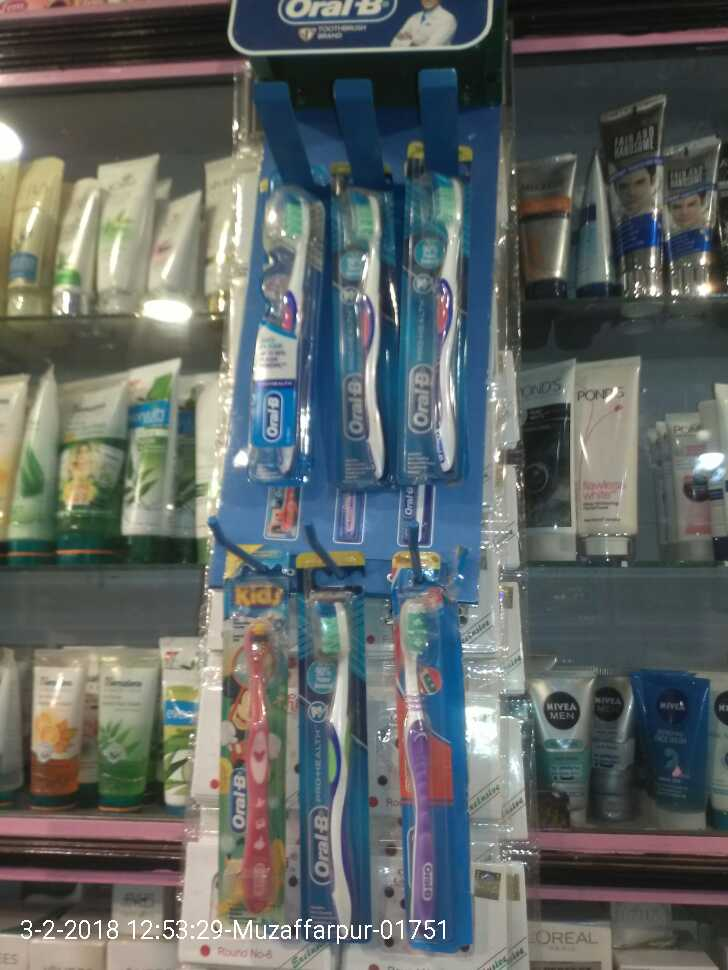oralb: (296, 553, 383, 918), (389, 549, 457, 923), (225, 538, 292, 910), (329, 166, 397, 475), (257, 169, 326, 472), (396, 163, 463, 463)
